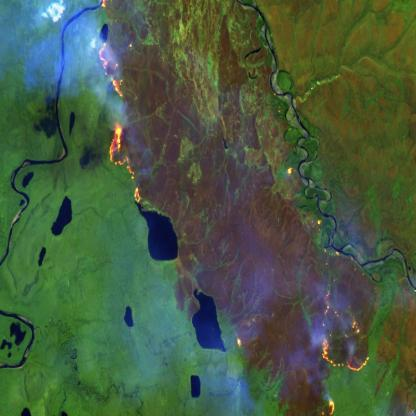fire: (89, 0, 143, 209), (313, 277, 371, 416), (230, 328, 248, 353)
